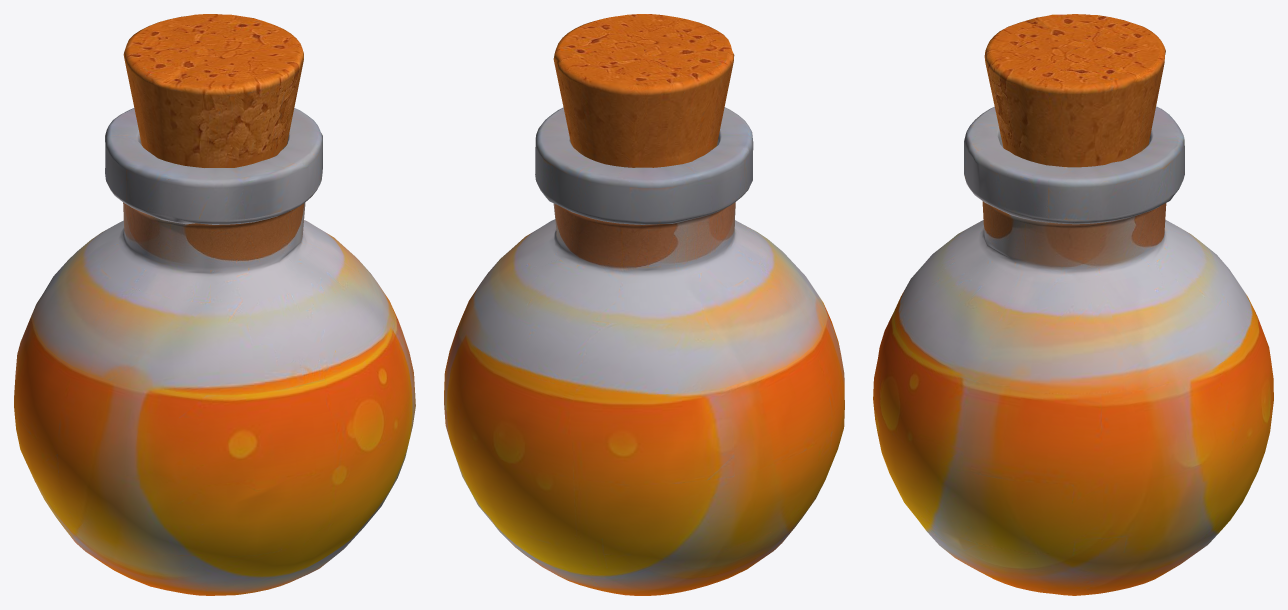
File: item_powerup_potion.glb
3 renders of one model, left to right at view 1: azimuth 30°, elevation 25°; view 2: azimuth 150°, elevation 25°; view 3: azimuth 270°, elevation 25°, orthographic.
Visible parts, largest first — view 1: Mesh_0; view 2: Mesh_0; view 3: Mesh_0.
Part boxes in pixels (bbox=[...]): Mesh_0: bbox=[14, 14, 415, 595]; Mesh_0: bbox=[444, 14, 844, 595]; Mesh_0: bbox=[873, 14, 1273, 595].
Size of the model in its own units: 0.4137 by 0.6 by 0.4127.
1 material, 1 textured.
